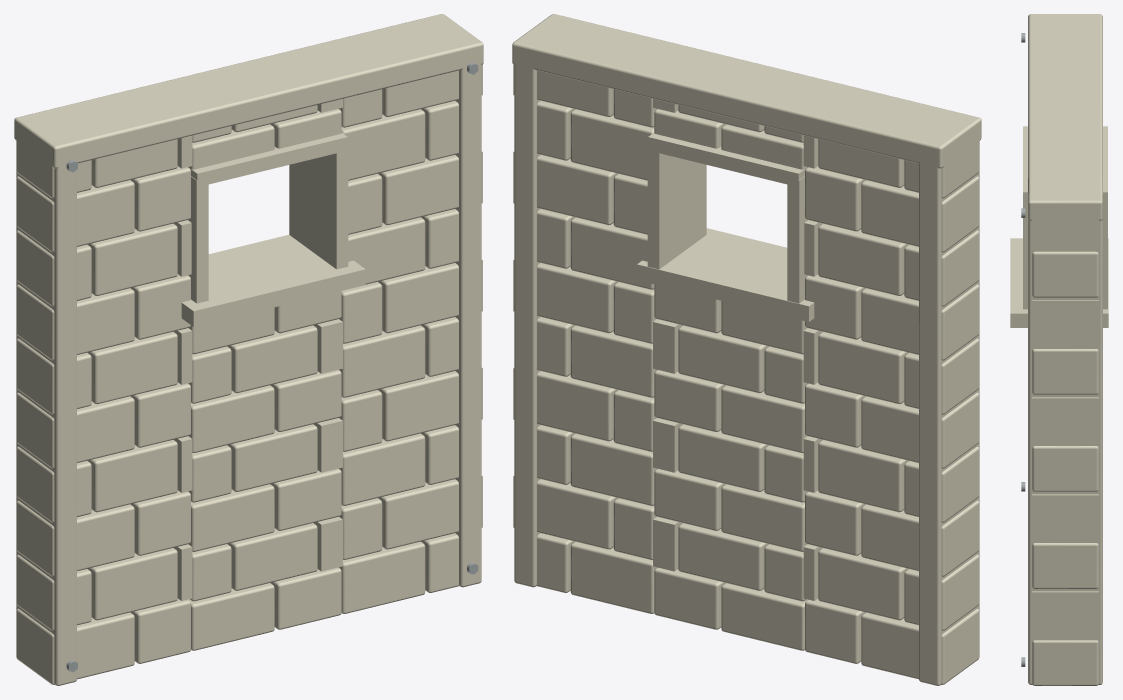
File: bunker-shelter-construction-shelter-vent-wall-28b6df1f__23290.glb
3 views of the same model, side by side, from view 1: azimuth 30°, elevation 25°; view 2: azimuth 150°, elevation 25°; view 3: azimuth 270°, elevation 25° (orthographic). The views are drawn at different scales.
Parts seen in each view (by area): view 1: shelter-vent-wall; view 2: shelter-vent-wall; view 3: shelter-vent-wall.
Boxes of the visible parts, <box> form: shelter-vent-wall: <box>14,14,483,685</box>; shelter-vent-wall: <box>512,14,981,685</box>; shelter-vent-wall: <box>1010,14,1108,685</box>.
Size of the model in its own units: 2 by 2.4 by 0.4401.
